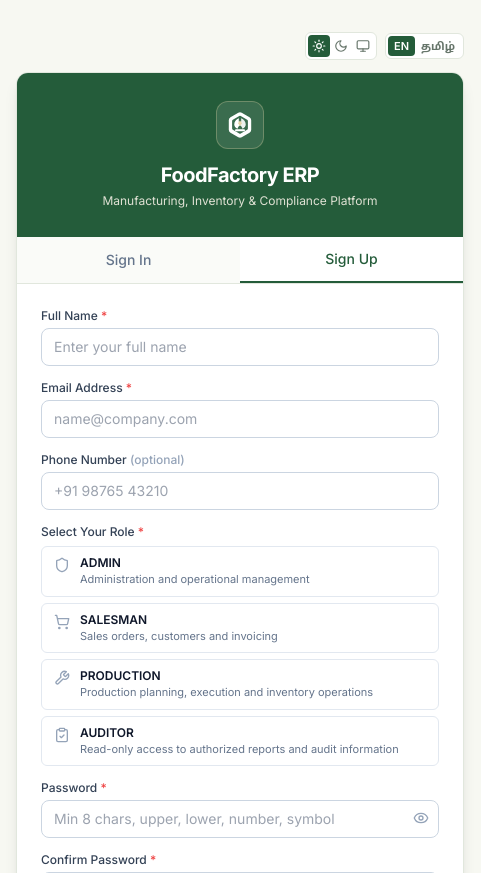
Test: Public Sign Up UI Suite › 4. Displays server error notification on duplicate email or API failure
Type "Jane Doe" into the field labelled "Full Name *". click: (240, 347)
box: [41,328,439,366]
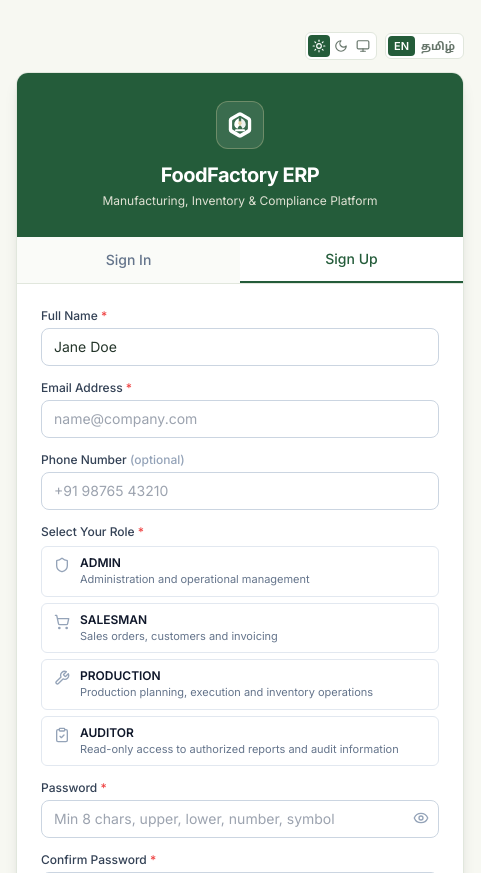
Type "jane.doe@foodfactory.com" into the field labelled "Email Address *". click: (240, 419)
box: [41,400,439,438]
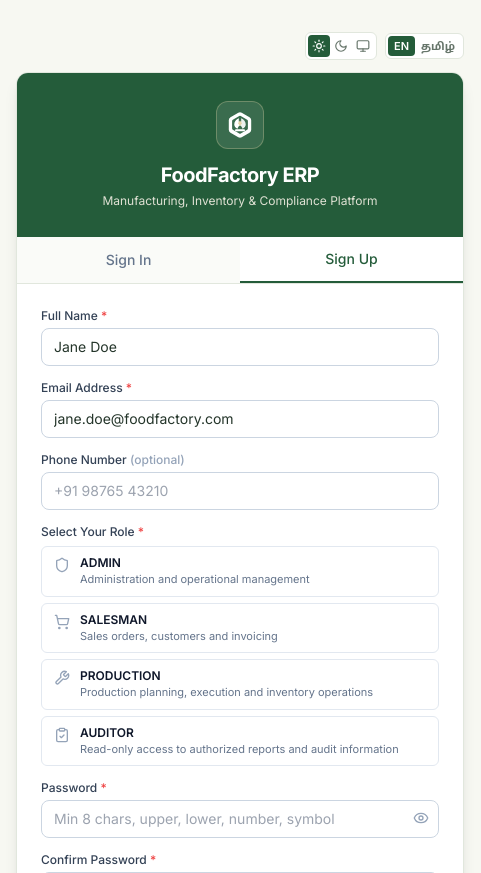
Click the radio button labelled "SALESMAN Sales orders, customers and invoicing". click: (240, 628)
box: [41,602,439,653]
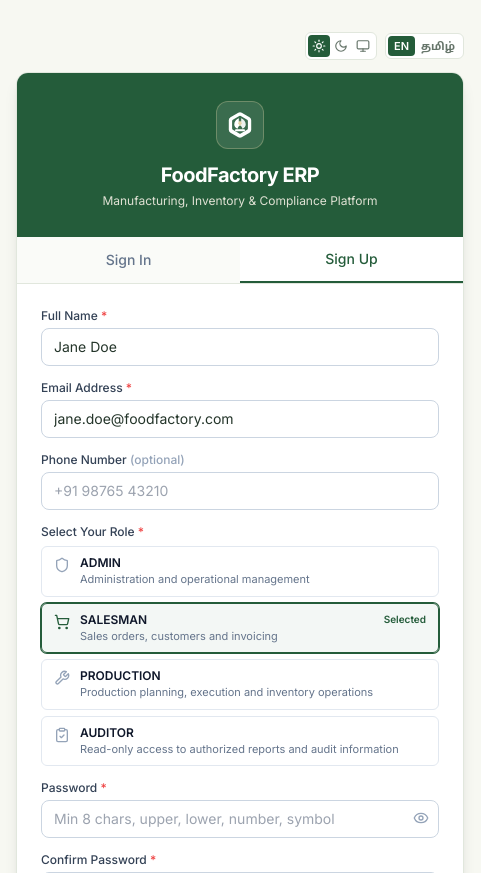
Type "StrongPass1!" into the password field labelled "Password *". click: (240, 819)
box: [41,800,439,838]
(page scrolled)
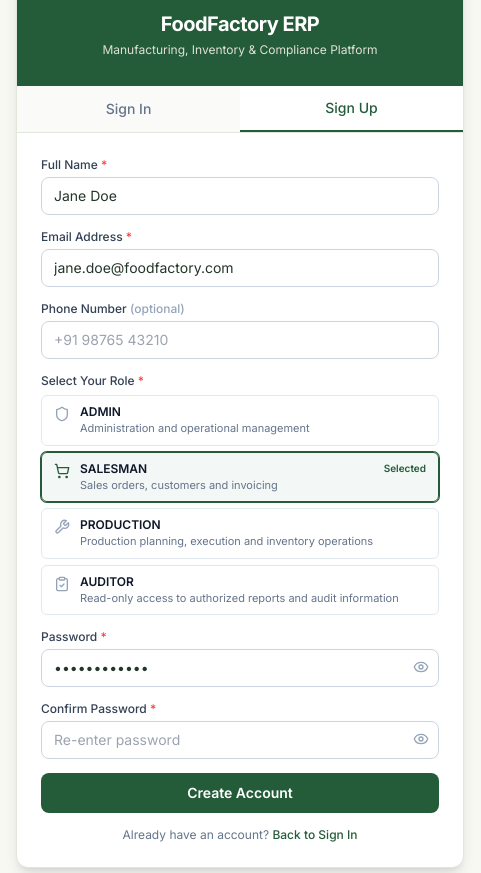
Type "StrongPass1!" into the password field labelled "Confirm Password *". click: (240, 740)
box: [41,721,439,759]
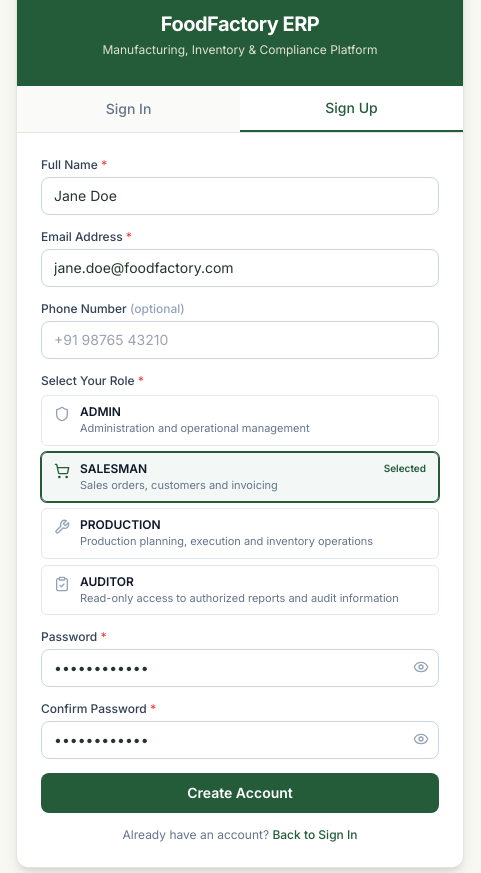
Click the button "Create Account". click: (240, 793)
box: [41,773,439,813]
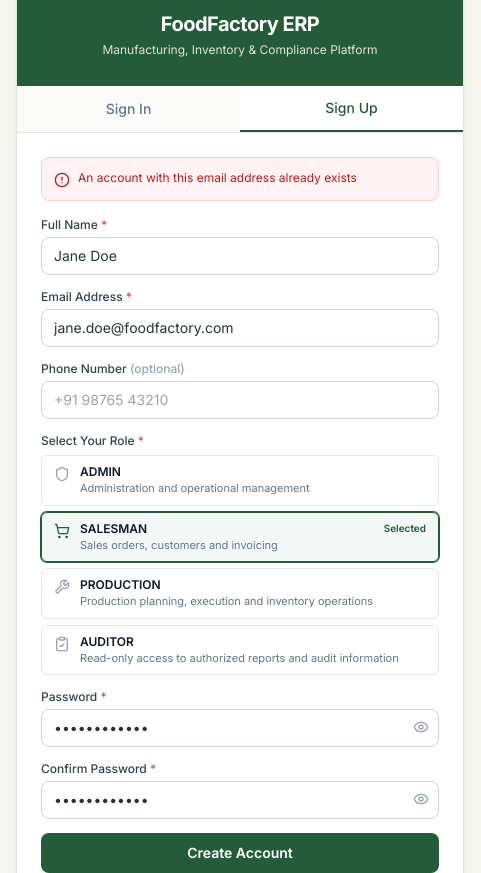
Expected: the message reads "An account with this email address already exists", [78,170,357,185]
